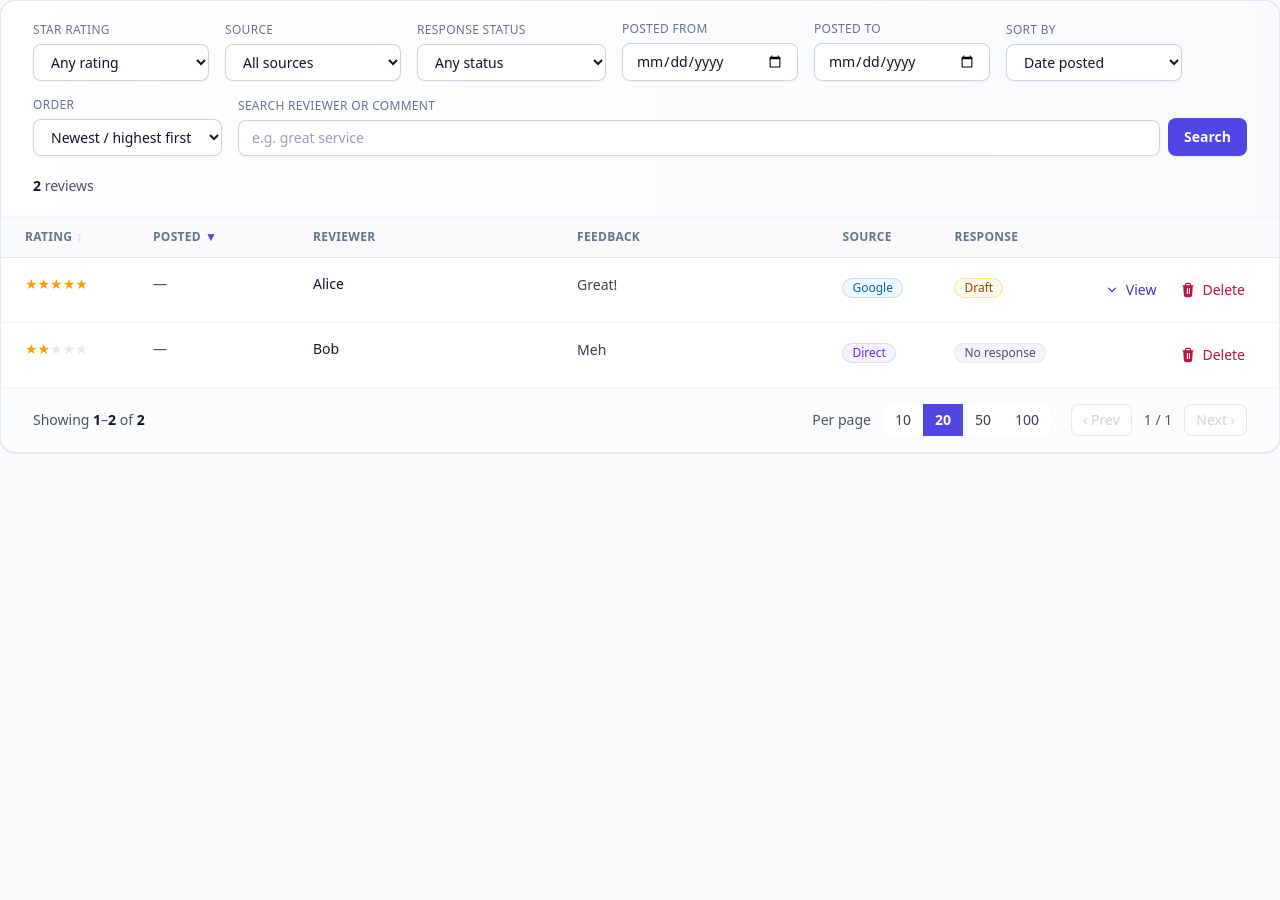
Scenario: Review Management — ReviewPanel › AI response workflow — expand, accept, regenerate › surfaces a rejection error from approveReviewResponse as a toast, without refreshing
Click the button "View".
click(1130, 290)  # box x1=1094 y1=274 x2=1166 y2=306
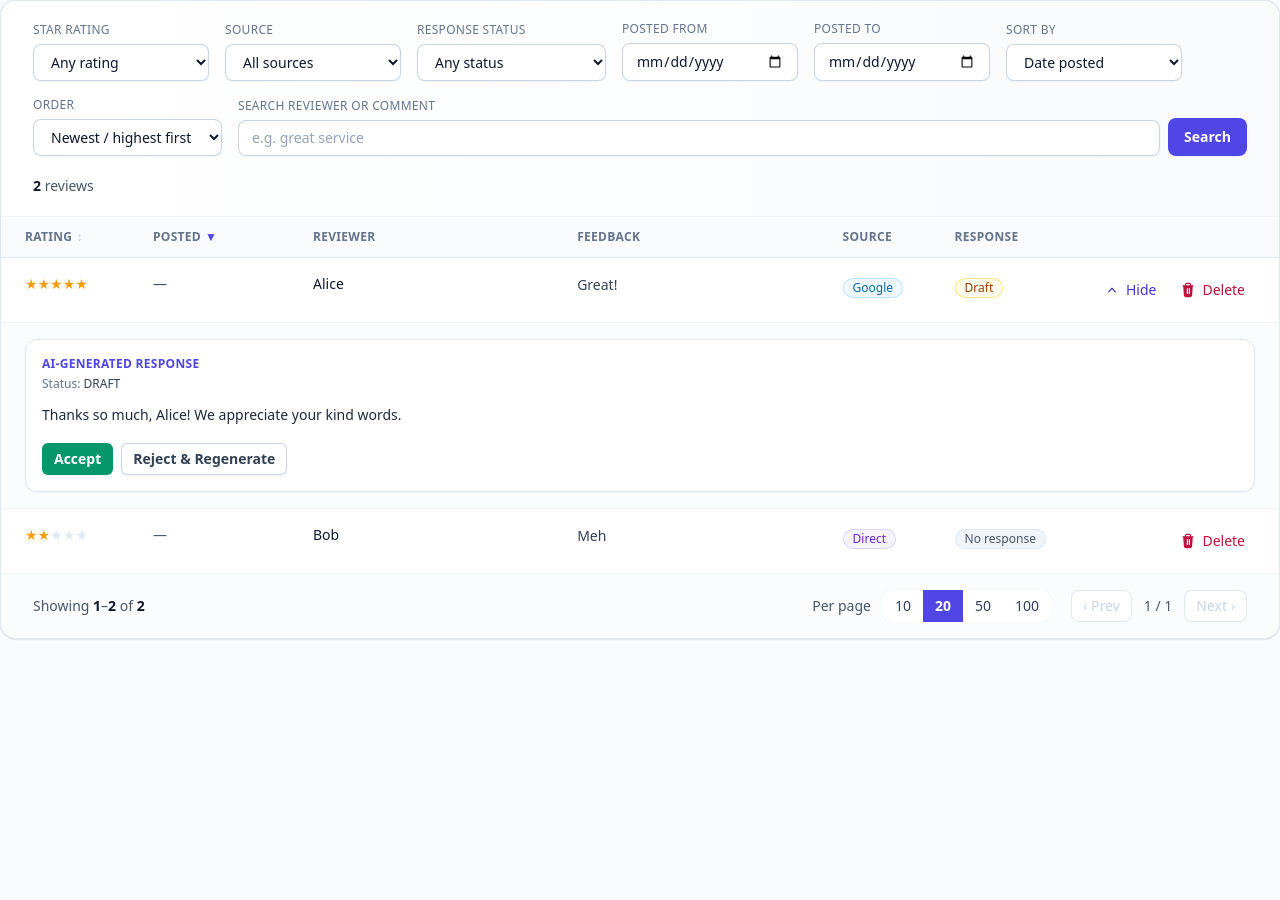
Click the button with test id "approve-response-r1".
click(78, 459)  # box x1=42 y1=443 x2=113 y2=475
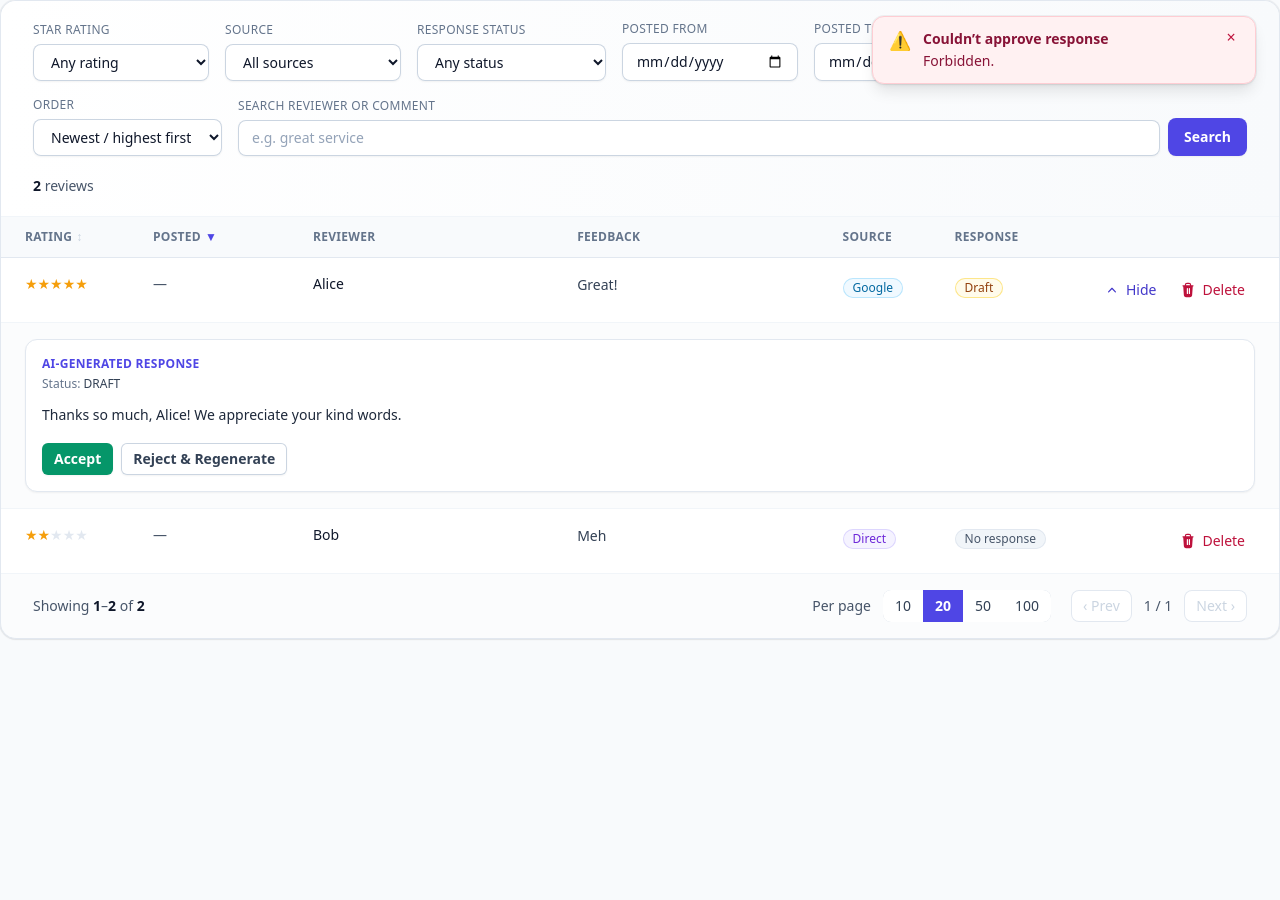
Result: the message shows "Forbidden" at x1=923 y1=51 x2=994 y2=70
